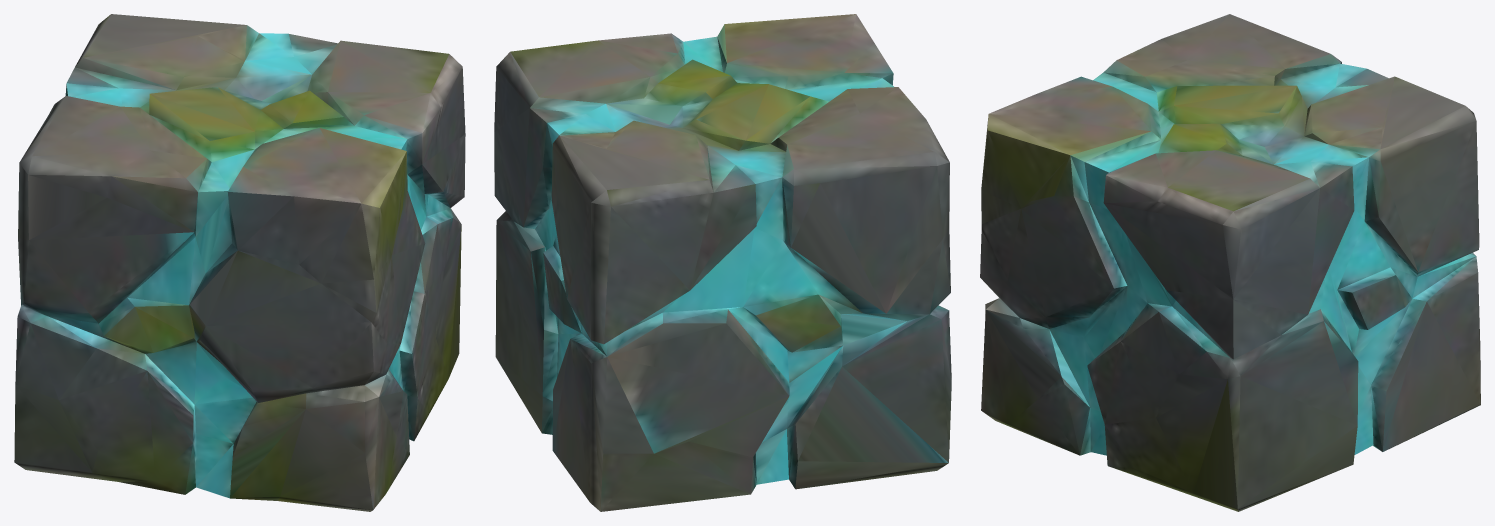
File: bloque_enlace.glb
3 views of the same model, side by side, from view 1: azimuth 30°, elevation 25°; view 2: azimuth 150°, elevation 25°; view 3: azimuth 270°, elevation 25° (orthographic). The views are drawn at different scales.
Visible parts, largest first — view 1: bloque_enlace_malla; view 2: bloque_enlace_malla; view 3: bloque_enlace_malla.
Part boxes in pixels (x1,y1,x2,y2): bloque_enlace_malla: [14, 14, 465, 511]; bloque_enlace_malla: [494, 14, 951, 511]; bloque_enlace_malla: [980, 14, 1480, 511].
Bounding box in the file's own units: 0.324 × 0.2204 × 0.3243.
Materials: 1 (1 with a texture image).
